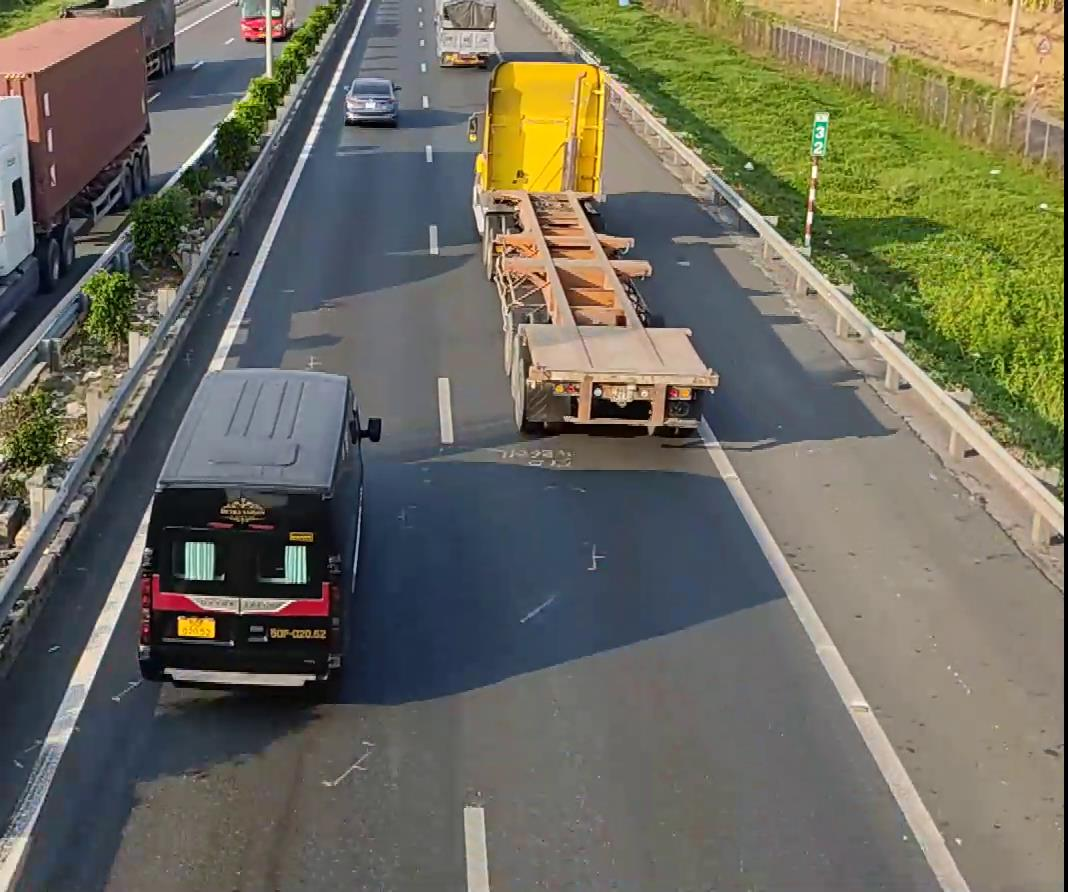car: (130, 365, 378, 697), (342, 70, 400, 128)
container: (473, 51, 719, 437), (0, 13, 158, 323)
truck: (433, 0, 500, 67)
